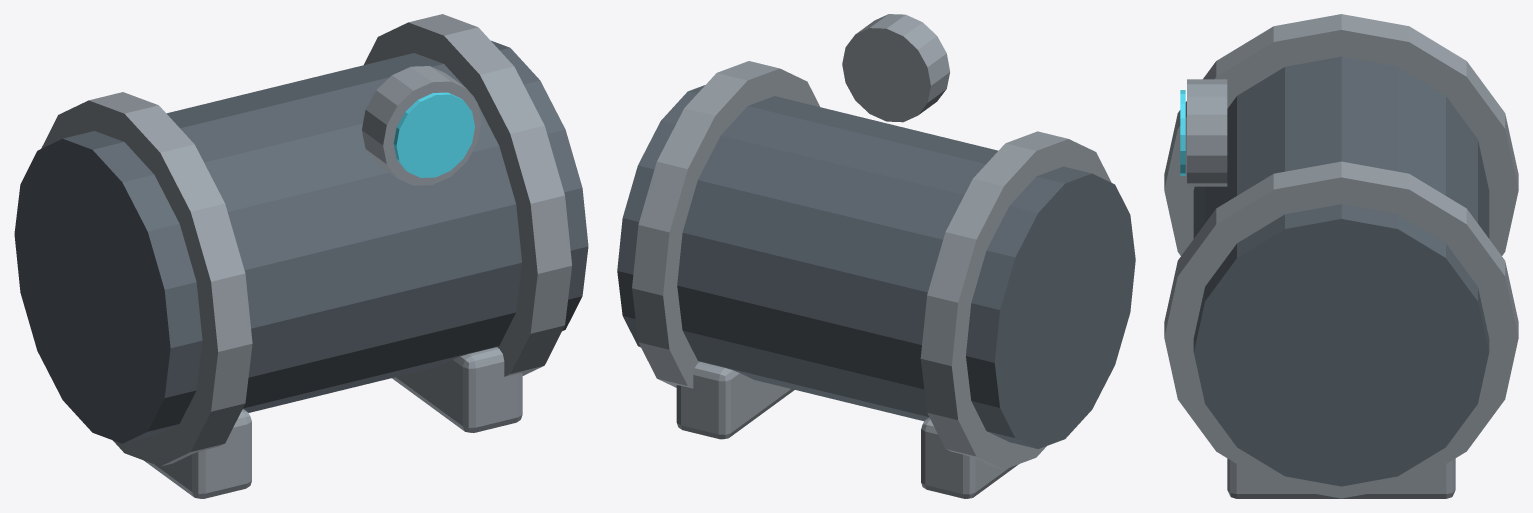
Rendered from 4_Feature.fbx.
The picture shows the model from 3 angles, left to right: view 1: azimuth 30°, elevation 25°; view 2: azimuth 150°, elevation 25°; view 3: azimuth 270°, elevation 25°; orthographic projection. The views are drawn at different scales.
Visible parts, largest first — view 1: Body; view 2: Body; view 3: Body.
Boxes of the visible parts, x1,y1,x2,y2 form: Body: (14, 14, 588, 498); Body: (617, 14, 1135, 498); Body: (1164, 14, 1518, 498).
Bounding box in the file's own units: 1.7 × 1.5 × 1.32.
